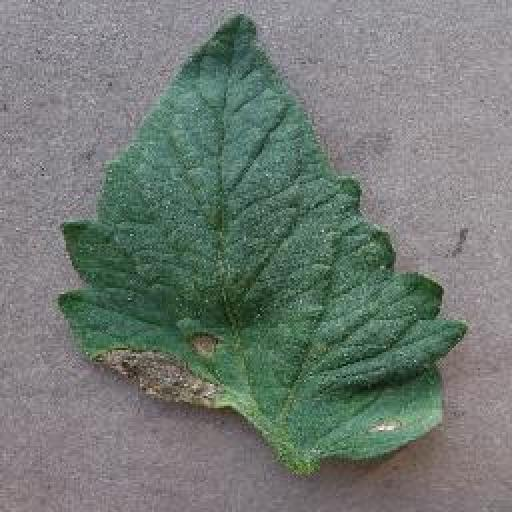Early Blight: (54, 15, 469, 480)
